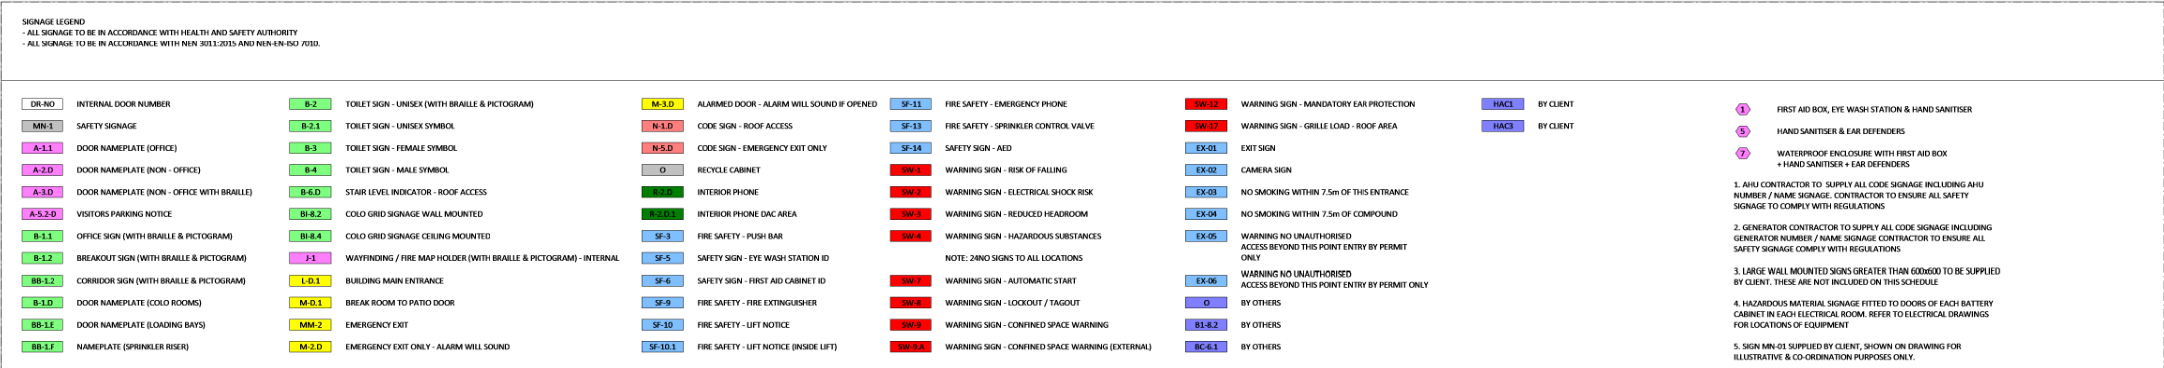hatch: (19, 336, 66, 356), (283, 183, 335, 200), (18, 316, 66, 332), (283, 207, 334, 222), (22, 96, 68, 113), (18, 139, 63, 156), (1181, 273, 1230, 288), (639, 161, 686, 176), (639, 317, 686, 332), (1181, 141, 1228, 156), (290, 294, 333, 310), (1186, 227, 1228, 244), (1475, 96, 1526, 110), (1186, 96, 1231, 112), (288, 141, 333, 156), (889, 161, 933, 176), (1183, 317, 1227, 332), (288, 96, 335, 110), (1478, 119, 1525, 132), (21, 119, 66, 132), (18, 296, 63, 310), (288, 273, 330, 288), (639, 185, 685, 198), (887, 185, 933, 198), (887, 229, 933, 243), (286, 164, 335, 176), (21, 273, 65, 287), (642, 120, 686, 134), (890, 98, 934, 112), (1184, 185, 1228, 198), (284, 119, 333, 131), (21, 185, 63, 198), (288, 339, 331, 353), (640, 252, 683, 266), (889, 207, 932, 221), (890, 295, 933, 309), (889, 318, 932, 332), (1184, 339, 1227, 353), (18, 164, 65, 176), (638, 96, 685, 109), (642, 273, 683, 287), (889, 339, 930, 353), (1186, 295, 1227, 309), (21, 230, 66, 243), (640, 141, 686, 153), (19, 252, 63, 265), (288, 230, 333, 243), (288, 251, 333, 263), (890, 141, 934, 153), (21, 207, 63, 219), (288, 317, 331, 329), (890, 276, 933, 288), (1186, 164, 1228, 176), (1184, 207, 1227, 219), (640, 230, 687, 241), (640, 340, 682, 353), (890, 119, 932, 131), (1183, 120, 1228, 131), (643, 208, 683, 219), (640, 298, 685, 307), (1731, 143, 1754, 161), (1735, 124, 1754, 138), (1735, 101, 1750, 117)
label: (1235, 229, 1417, 262), (342, 248, 625, 267), (1237, 266, 1437, 291), (1767, 99, 1976, 119), (934, 338, 1159, 356), (1773, 149, 1960, 170), (342, 338, 519, 358), (941, 181, 1096, 203), (340, 95, 542, 112), (690, 95, 885, 112), (937, 207, 1096, 226), (938, 114, 1105, 132), (938, 317, 1119, 334), (337, 226, 501, 244), (341, 181, 493, 200), (1234, 96, 1419, 112), (69, 272, 250, 287), (72, 249, 251, 265), (691, 338, 843, 356), (943, 227, 1104, 244), (72, 185, 257, 198), (72, 229, 239, 244), (689, 292, 828, 310), (943, 294, 1082, 311), (1235, 185, 1412, 198), (941, 161, 1075, 179), (936, 272, 1081, 288), (341, 159, 455, 179), (1767, 123, 1914, 138), (341, 138, 465, 156), (70, 338, 192, 356), (340, 207, 497, 221), (1235, 207, 1408, 219), (691, 139, 831, 154), (1237, 119, 1404, 131), (72, 317, 207, 332), (690, 273, 838, 287), (341, 292, 464, 309), (938, 96, 1070, 112), (690, 207, 807, 223), (689, 252, 840, 265), (689, 227, 798, 244), (335, 272, 450, 287), (73, 163, 203, 175), (73, 298, 210, 309), (693, 119, 799, 132), (693, 318, 798, 332), (342, 119, 458, 131), (689, 183, 767, 201), (73, 207, 173, 221), (690, 161, 771, 178), (341, 314, 413, 332), (77, 142, 179, 154), (941, 141, 1021, 156), (76, 96, 173, 109), (75, 116, 141, 134), (1232, 314, 1295, 332), (1237, 138, 1285, 157), (1239, 295, 1286, 310), (1239, 164, 1300, 175), (1533, 121, 1582, 132), (1237, 342, 1289, 351), (1536, 98, 1583, 108)
